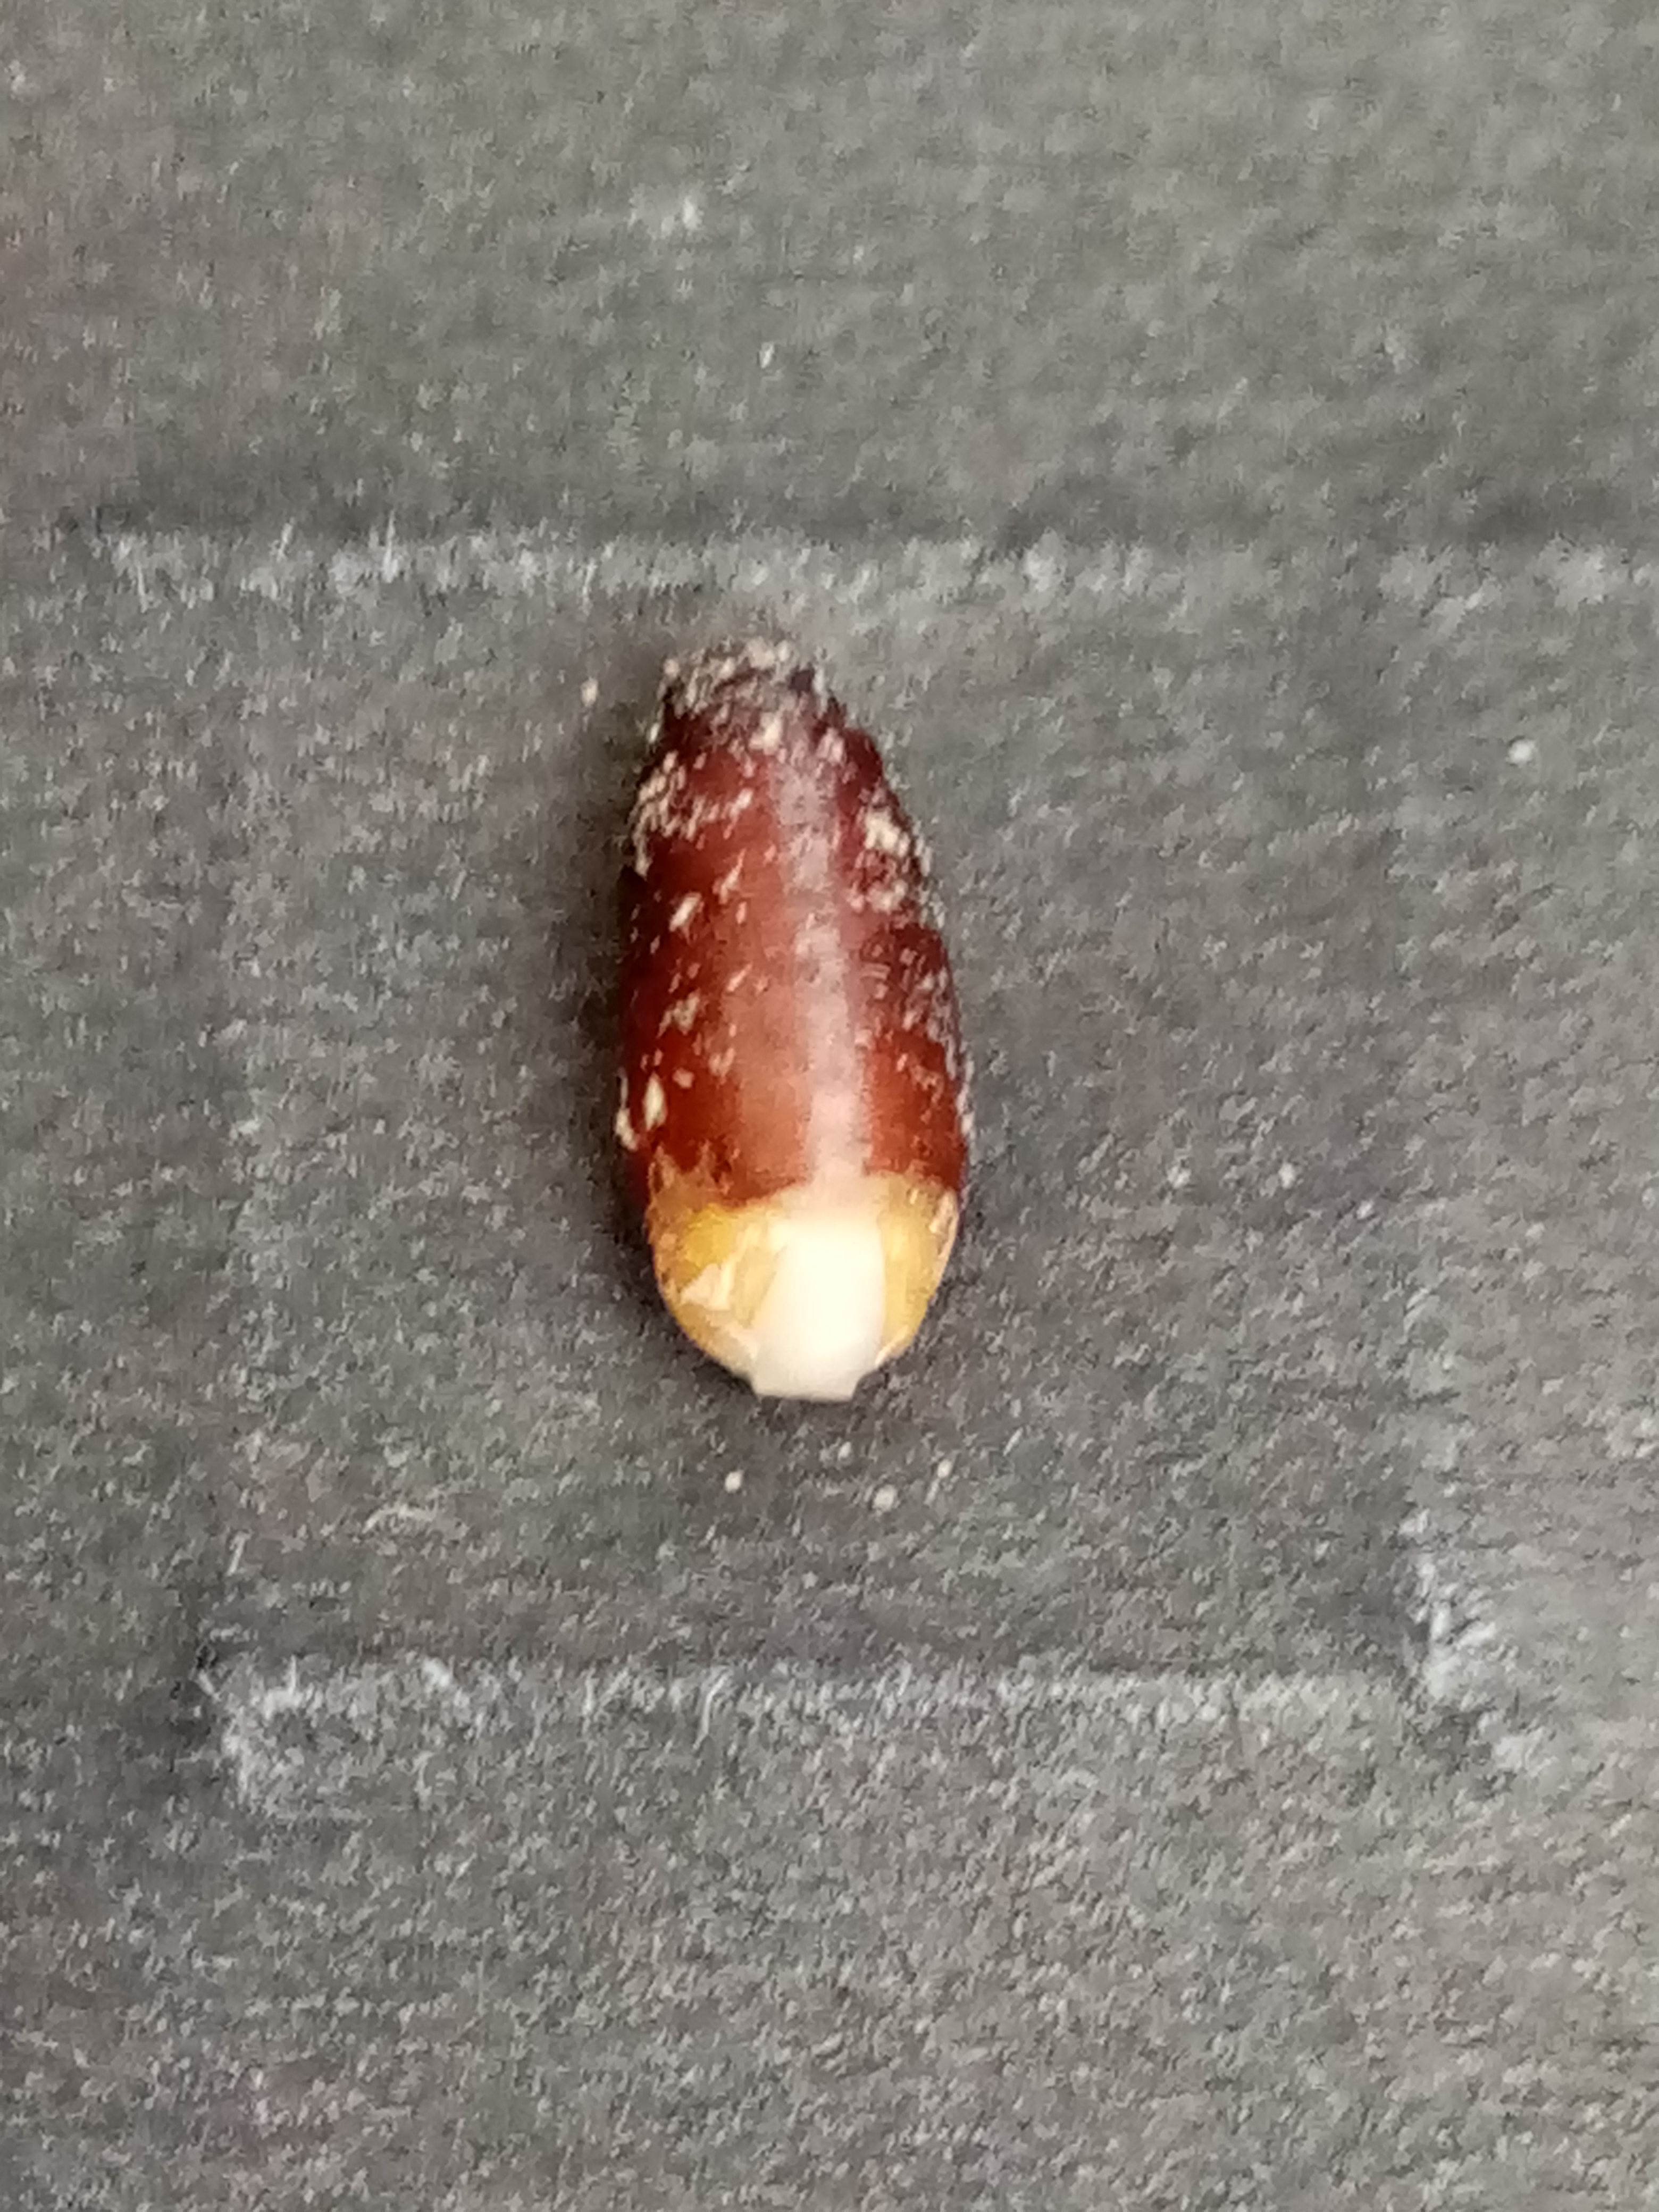pupa: (631, 1211, 965, 1406)
